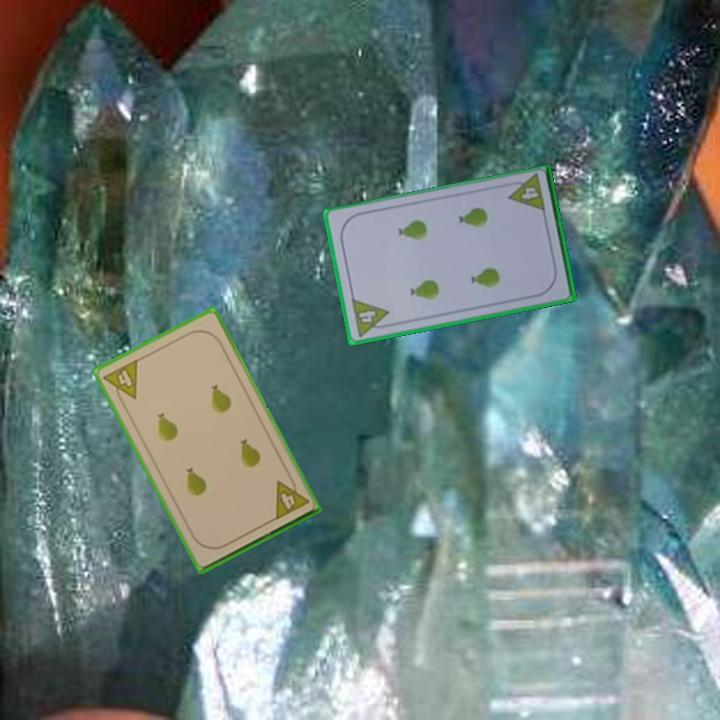4p: (99, 355, 141, 408), (270, 472, 312, 523), (348, 295, 394, 340), (503, 171, 548, 215)
